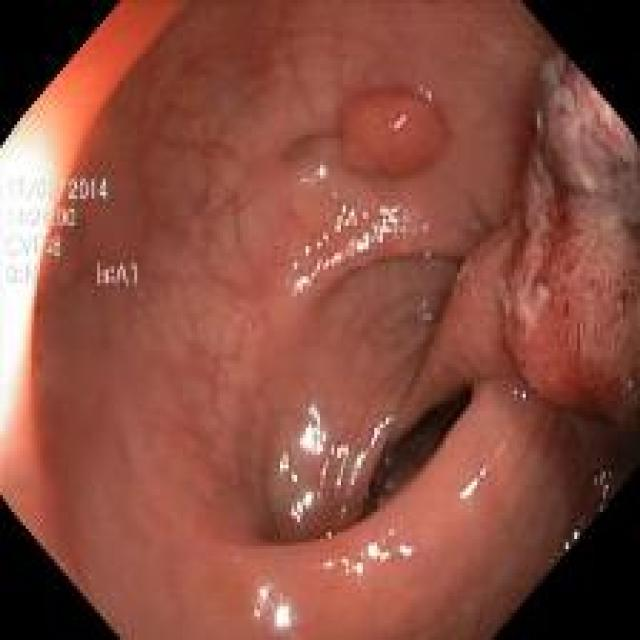Polyps: (394, 55, 640, 438), (340, 90, 445, 176)
